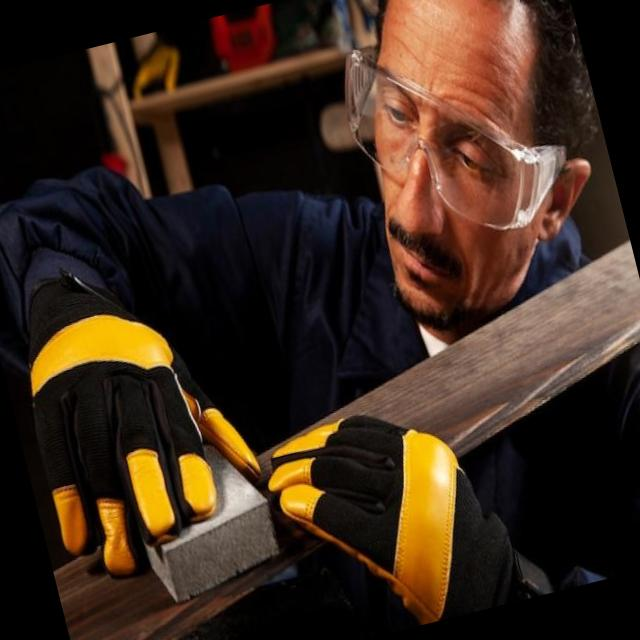Gloves: (8, 248, 278, 585), (266, 337, 521, 640)
Helmet: (321, 0, 583, 260)
